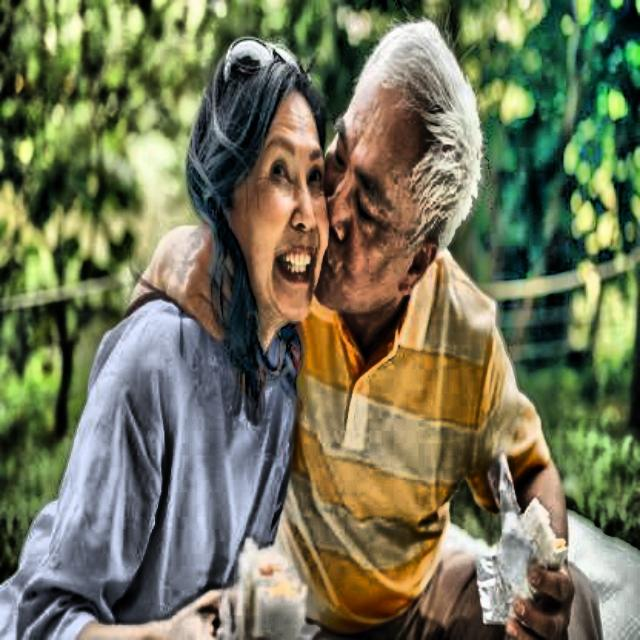happy: (293, 1, 508, 344), (168, 22, 338, 369)
